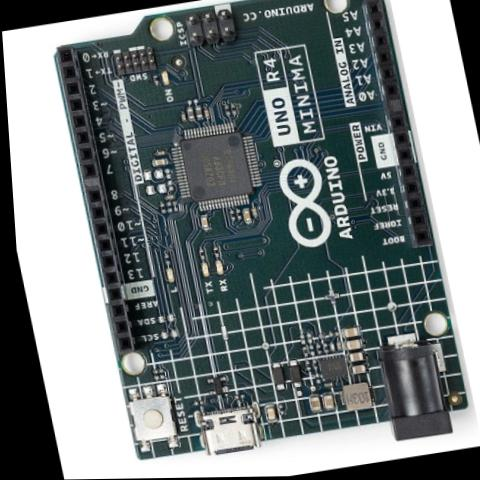Arduino-Uno: (33, 0, 473, 480)
